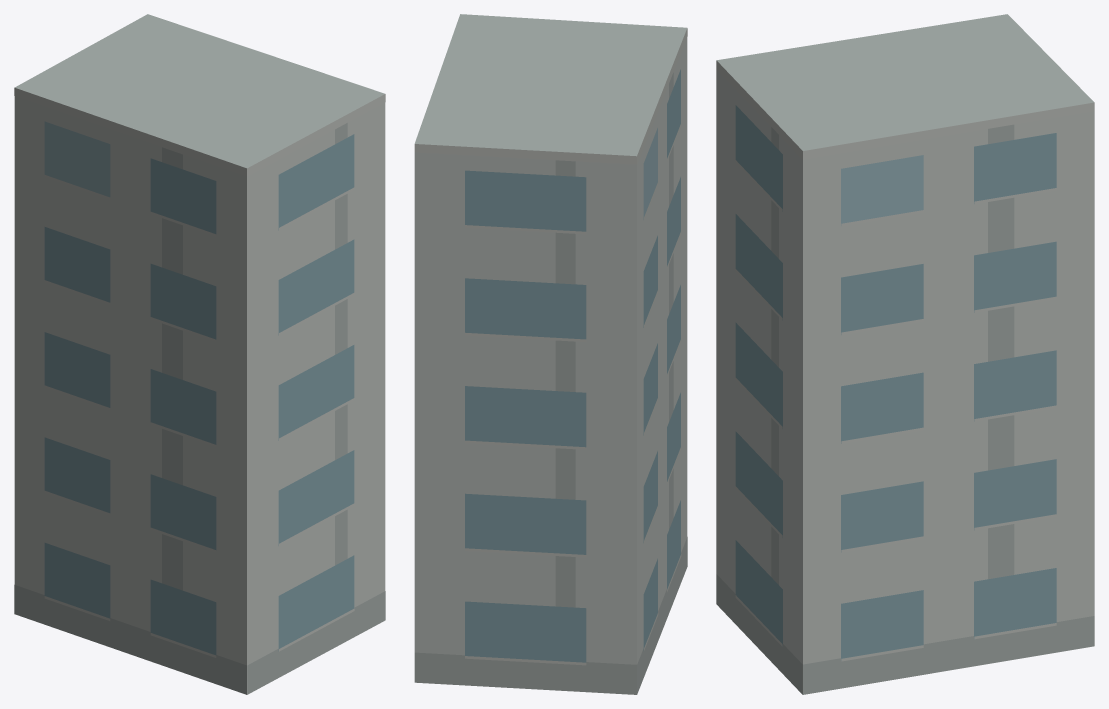
Rendered from survey-upis-33028446.glb.
The picture shows the model from 3 angles, left to right: view 1: azimuth 30°, elevation 25°; view 2: azimuth 150°, elevation 25°; view 3: azimuth 270°, elevation 25°; orthographic projection. The views are drawn at different scales.
Visible parts, largest first — view 1: survey-upis-33028446.tmp; view 2: survey-upis-33028446.tmp; view 3: survey-upis-33028446.tmp.
Part boxes in pixels (<box>): survey-upis-33028446.tmp: <box>14,14,385,694</box>; survey-upis-33028446.tmp: <box>414,14,687,694</box>; survey-upis-33028446.tmp: <box>716,14,1094,694</box>.
Size of the model in its own units: 8.25 by 15.25 by 9.62.
